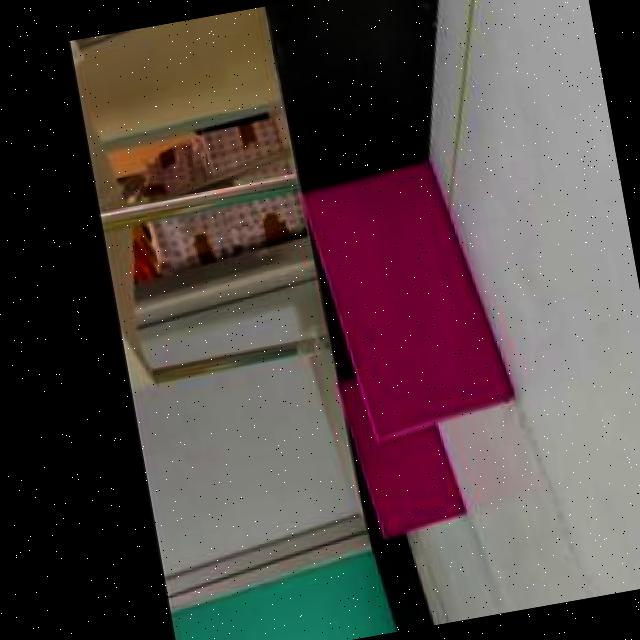xparking: (300, 161, 514, 438), (356, 426, 467, 536)
